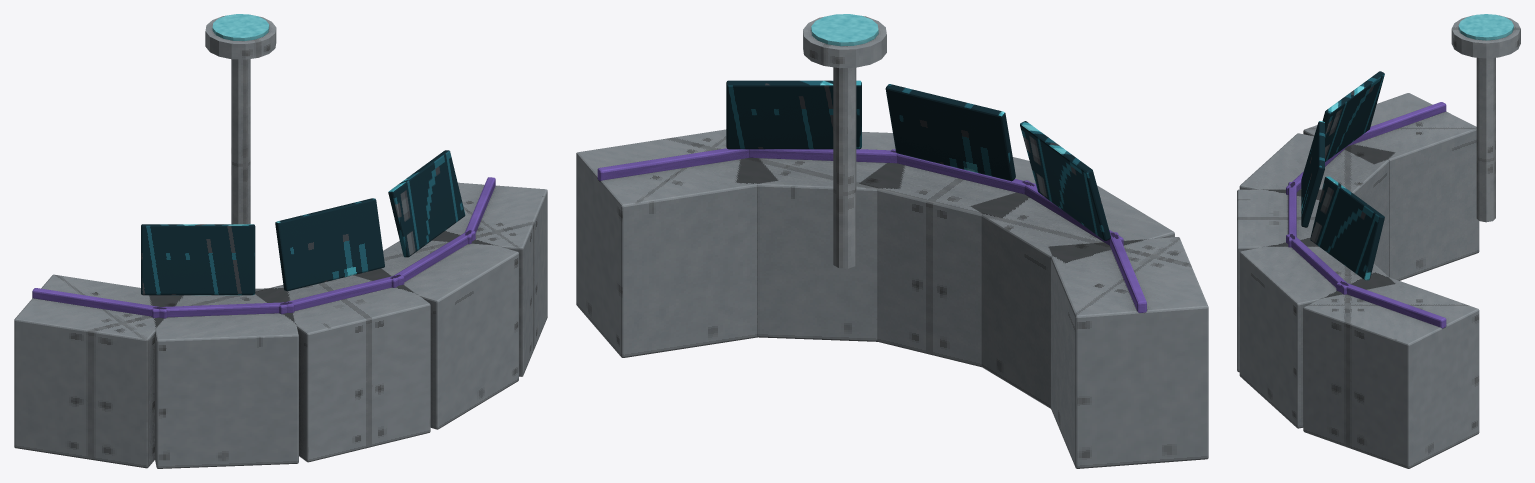
File: base_exchange_counter.glb
3 views of the same model, side by side, from view 1: azimuth 30°, elevation 25°; view 2: azimuth 150°, elevation 25°; view 3: azimuth 270°, elevation 25° (orthographic). The views are drawn at different scales.
Visible parts, largest first — view 1: base_exchange_counter.001; view 2: base_exchange_counter.001; view 3: base_exchange_counter.001.
Boxes of the visible parts, x1,y1,x2,y2 form: base_exchange_counter.001: (14, 14, 547, 468); base_exchange_counter.001: (576, 14, 1208, 468); base_exchange_counter.001: (1237, 14, 1520, 468).
Size of the model in its own units: 4.31 by 2.54 by 2.05.
4 materials, 4 textured.
